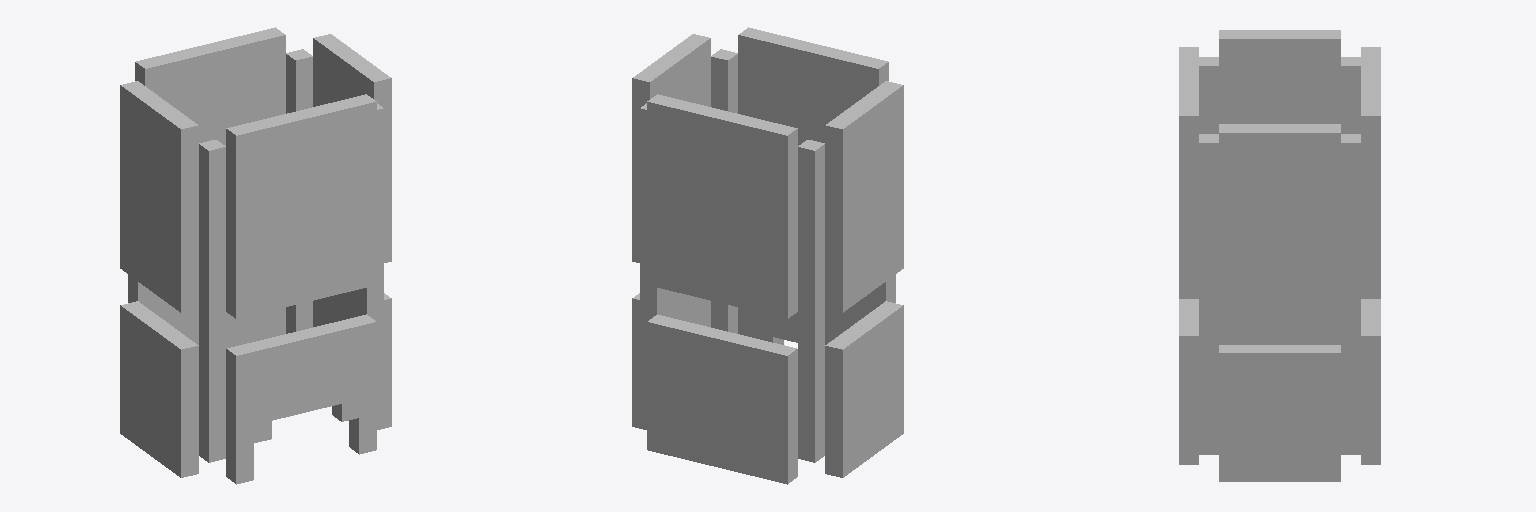
The model's file is experiment cabinet glass.obj.
The picture shows the model from 3 angles: view 1: azimuth 30°, elevation 25°; view 2: azimuth 150°, elevation 25°; view 3: azimuth 270°, elevation 25°; orthographic projection.
Visible parts, largest first — view 1: object 1; view 2: object 1; view 3: object 1.
Part boxes in pixels (left/top/right/bottom): object 1: left=120, top=27, right=391, bottom=484; object 1: left=632, top=27, right=903, bottom=484; object 1: left=1179, top=30, right=1380, bottom=481.
Bounding box in the file's own units: 1.2 × 1.9 × 1.